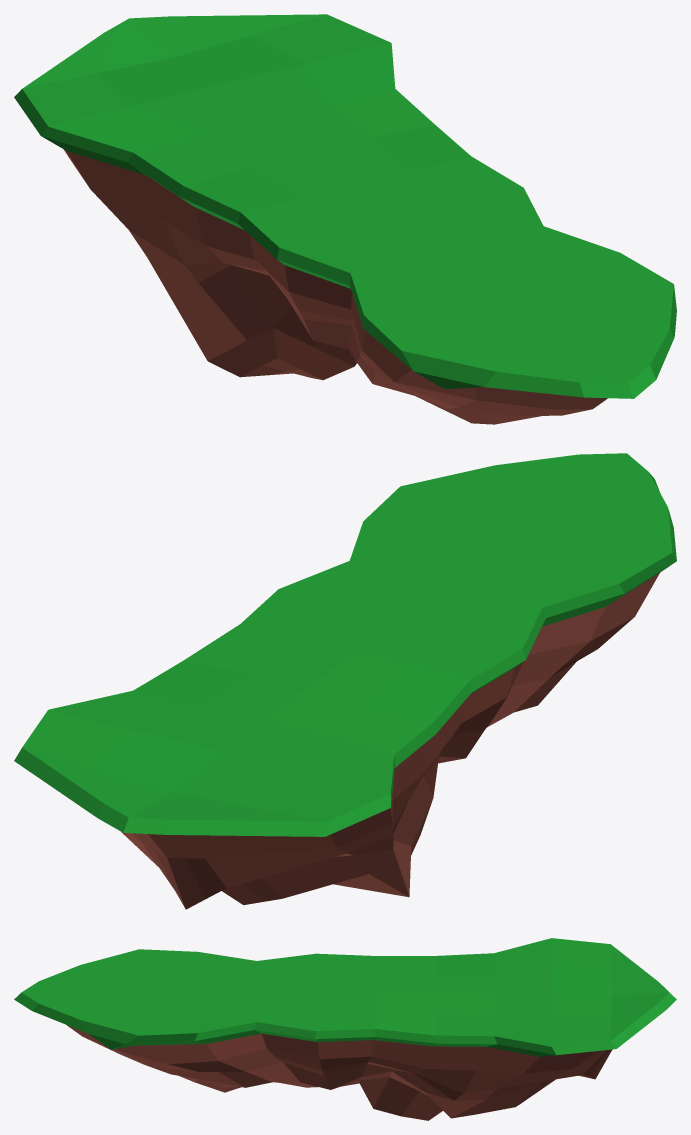
Rendered from island_1.fbx.
The picture shows the model from 3 angles, top to bottom: view 1: azimuth 30°, elevation 25°; view 2: azimuth 150°, elevation 25°; view 3: azimuth 270°, elevation 25°; orthographic projection. The views are drawn at different scales.
Parts seen in each view (by area): view 1: firstisland; view 2: firstisland; view 3: firstisland.
Boxes of the visible parts, <box> form: firstisland: <box>14,14,676,424</box>; firstisland: <box>14,453,676,909</box>; firstisland: <box>14,938,676,1120</box>.
Bounding box in the file's own units: 3149 × 1752 × 7931.
